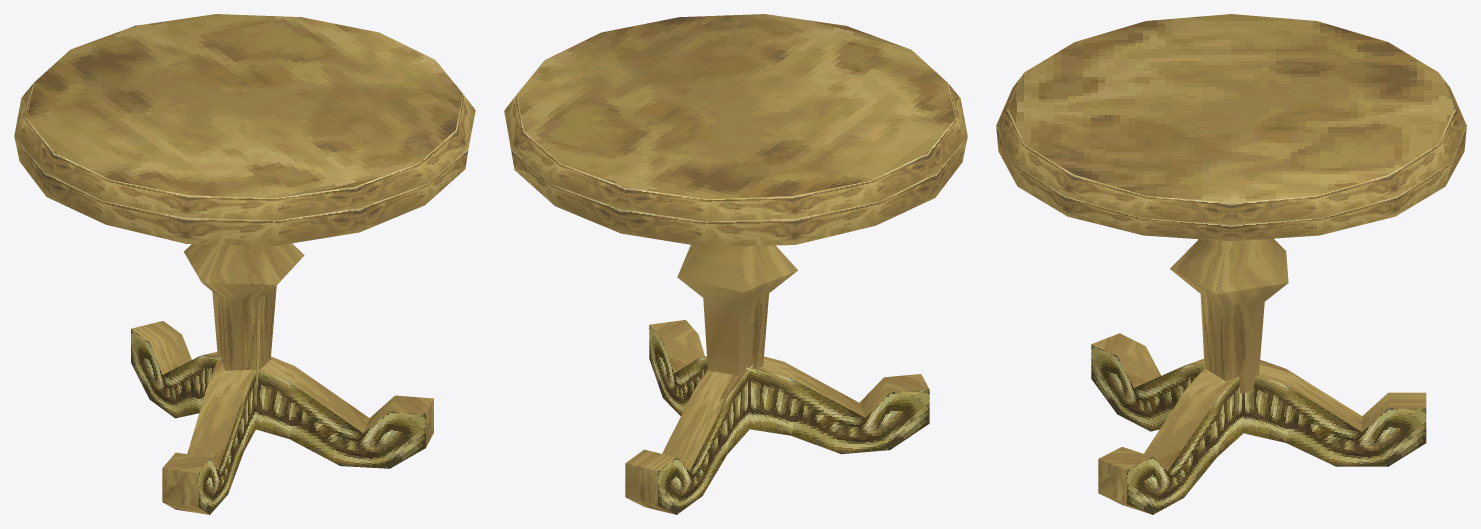
The model's file is otuku.glb.
The picture shows the model from 3 angles, left to right: view 1: azimuth 30°, elevation 25°; view 2: azimuth 150°, elevation 25°; view 3: azimuth 270°, elevation 25°; orthographic projection.
Parts seen in each view (by area): view 1: otuku; view 2: otuku; view 3: otuku.
Part boxes in pixels (left/top/right/bottom): otuku: left=14, top=14, right=475, bottom=514; otuku: left=504, top=14, right=967, bottom=514; otuku: left=996, top=14, right=1466, bottom=514.
Size of the model in its own units: 198 by 163 by 198.
3 materials, 3 textured.
